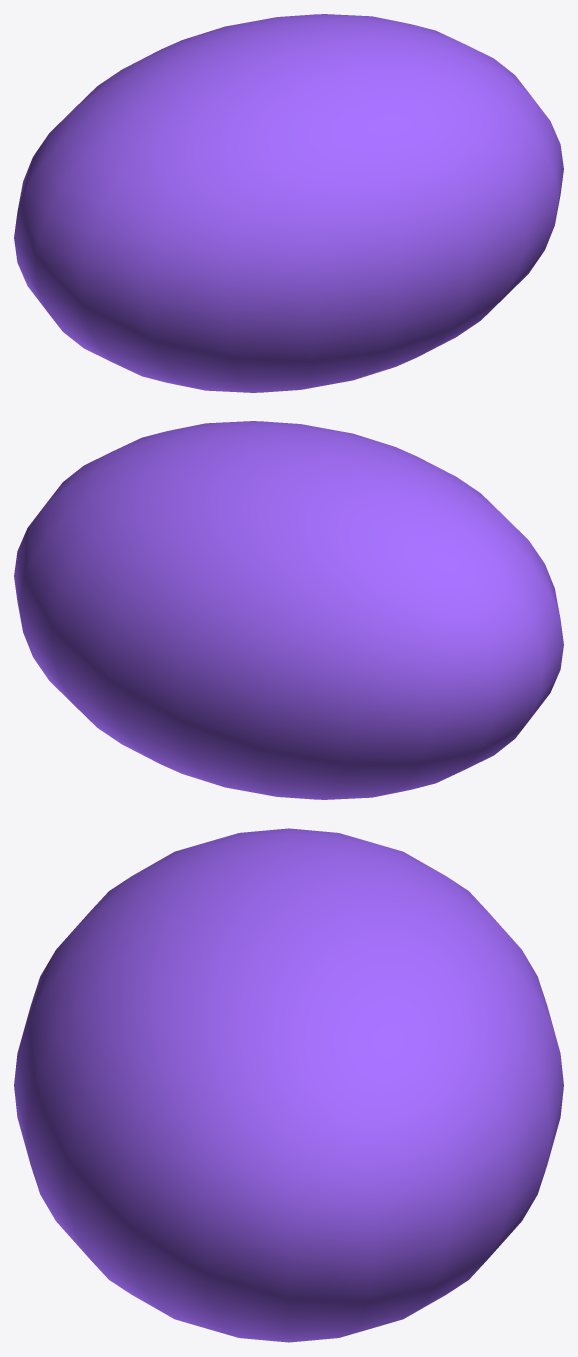
Rendered from SingleLysosome.obj.
The picture shows the model from 3 angles, top to bottom: view 1: azimuth 30°, elevation 25°; view 2: azimuth 150°, elevation 25°; view 3: azimuth 270°, elevation 25°; orthographic projection. The views are drawn at different scales.
Parts seen in each view (by area): view 1: Lysosome; view 2: Lysosome; view 3: Lysosome.
Boxes of the visible parts, x1,y1,x2,y2 form: Lysosome: (14, 14, 563, 392); Lysosome: (14, 421, 563, 799); Lysosome: (14, 828, 563, 1342).
Bounding box in the file's own units: 13.65 × 8.27 × 10.12.
